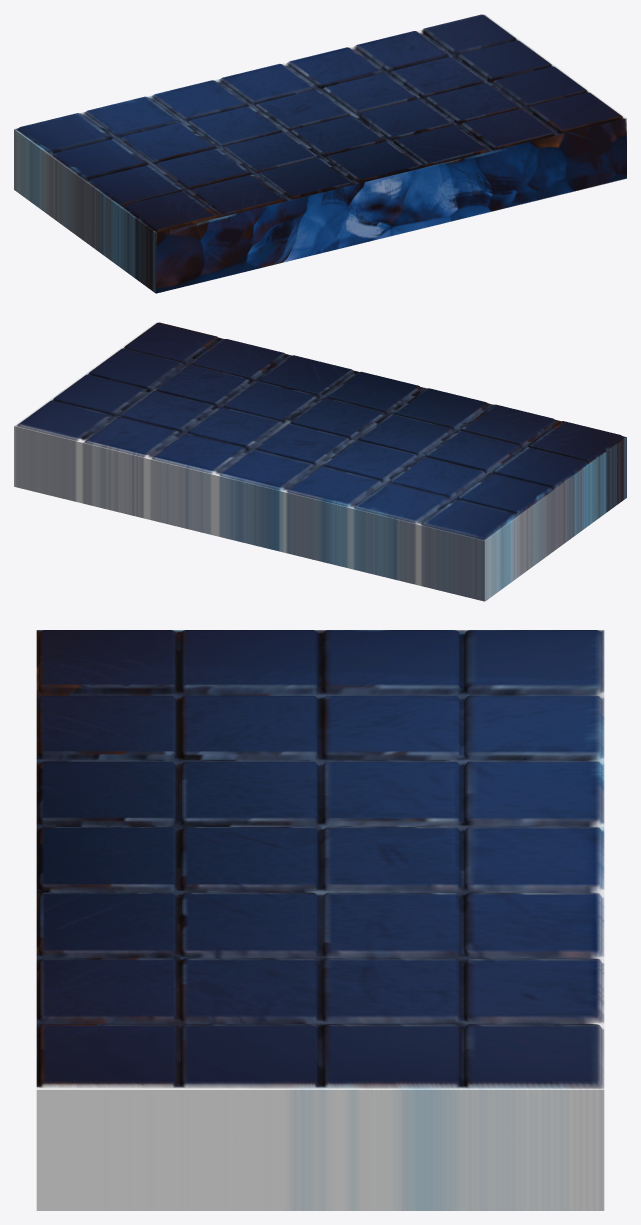
The model's file is boardfbx1.fbx.
The picture shows the model from 3 angles, top to bottom: view 1: azimuth 30°, elevation 25°; view 2: azimuth 150°, elevation 25°; view 3: azimuth 270°, elevation 25°; orthographic projection. The views are drawn at different scales.
Parts seen in each view (by area): view 1: SON BOARD; view 2: SON BOARD; view 3: SON BOARD.
Part boxes in pixels (x1=…): SON BOARD: x1=14, y1=14, x2=626, y2=293; SON BOARD: x1=14, y1=322, x2=626, y2=601; SON BOARD: x1=36, y1=630, x2=604, y2=1210.
Size of the model in its own units: 1135 by 144 by 592.
Materials: 2 (2 with a texture image).
